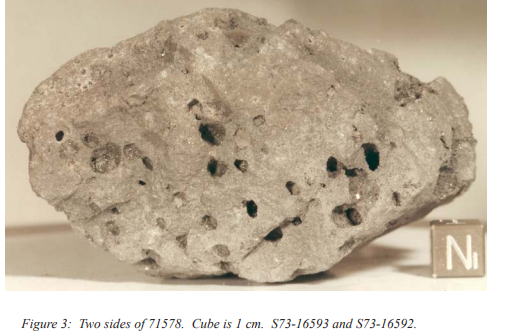Basalt: (35, 23, 470, 277), (176, 103, 390, 246)
